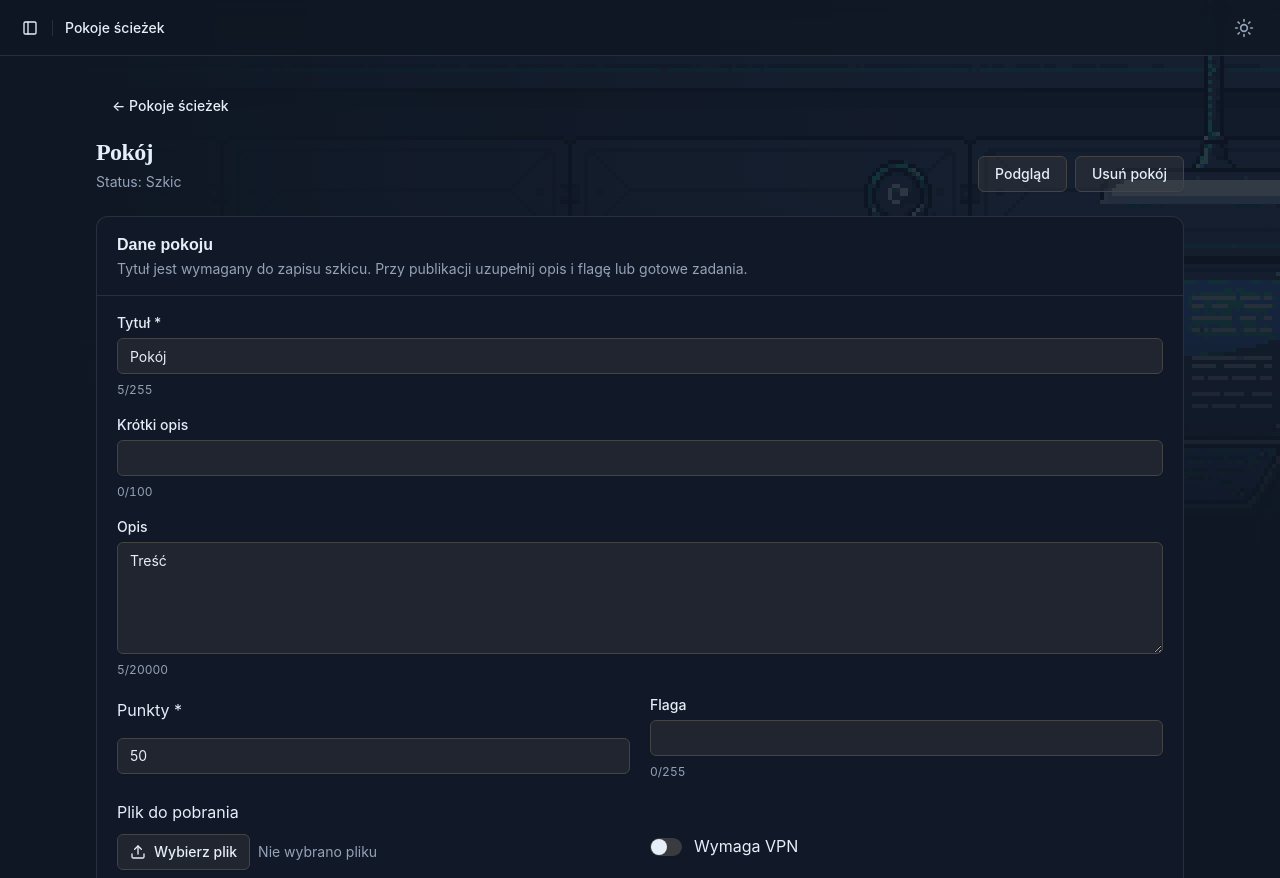
Test: room title and scoring rules › shows a duplicate title reported by the backend next to the title field
Replace the text in the field labelled "Tytuł *" with "Wstęp": (640, 356) x1=117 y1=338 x2=1163 y2=374
(page scrolled)
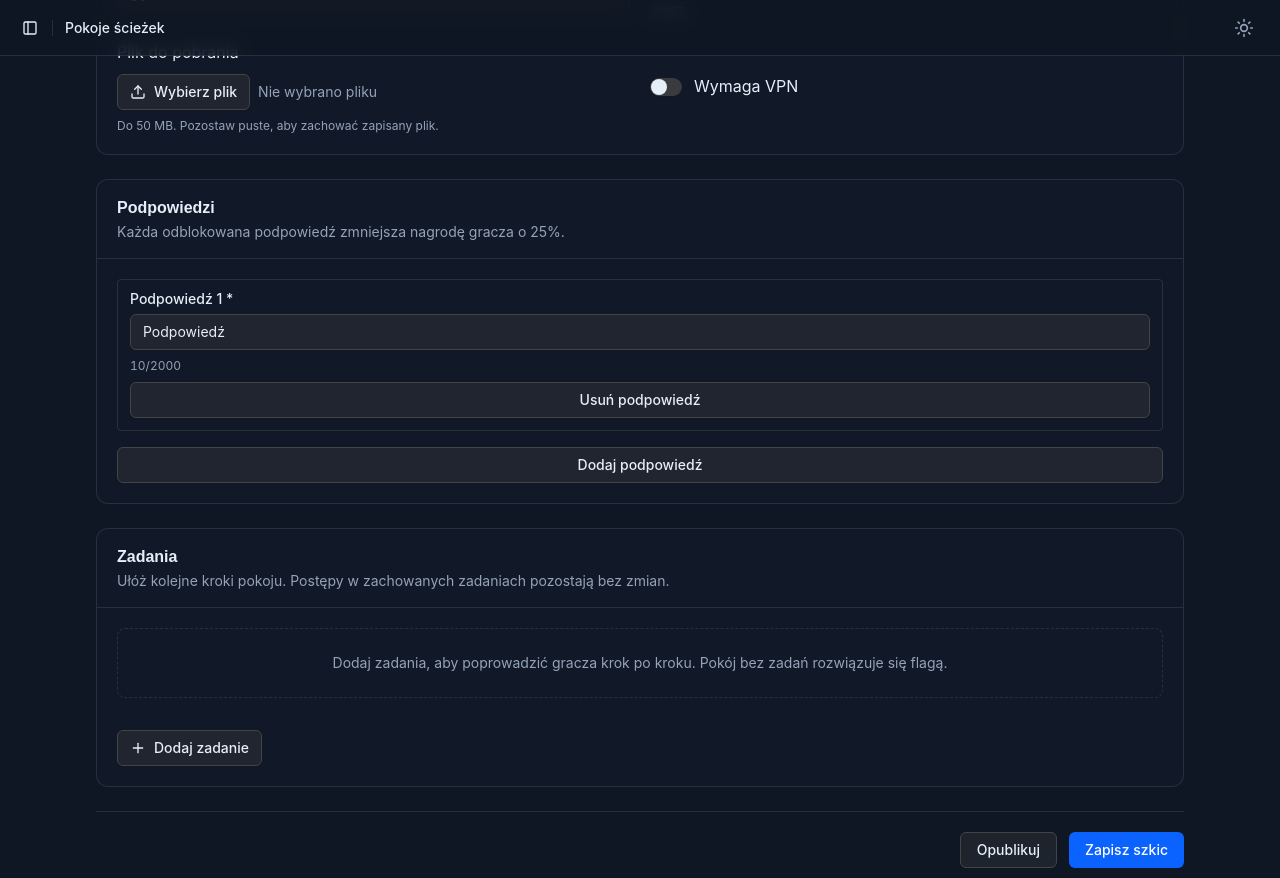
Click the button "Zapisz szkic": (1126, 850) x1=1069 y1=832 x2=1184 y2=868
(page scrolled)
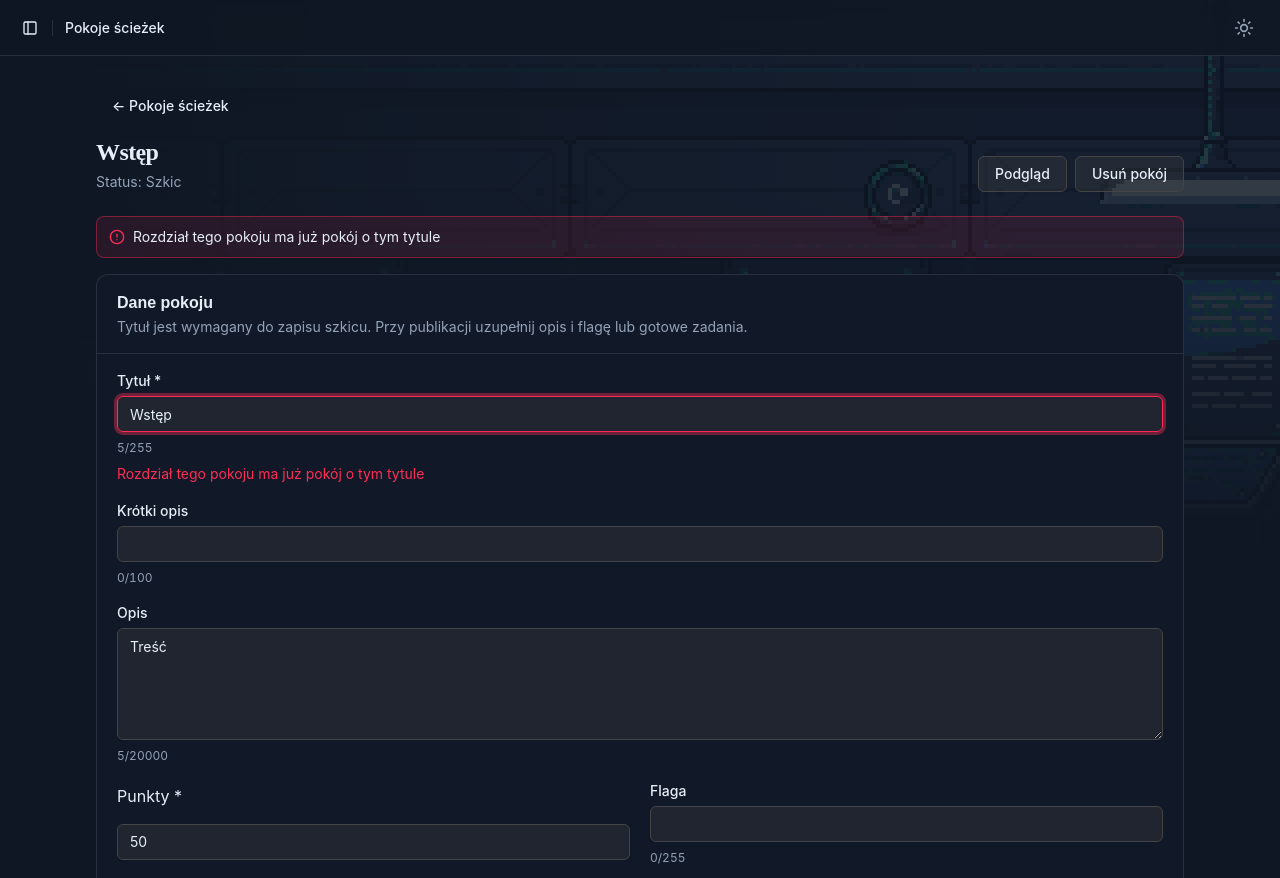
Expected: the text "Rozdział tego pokoju ma już pokój o tym tytule" below "Dane pokoju" is shown, x1=117 y1=465 x2=424 y2=482
